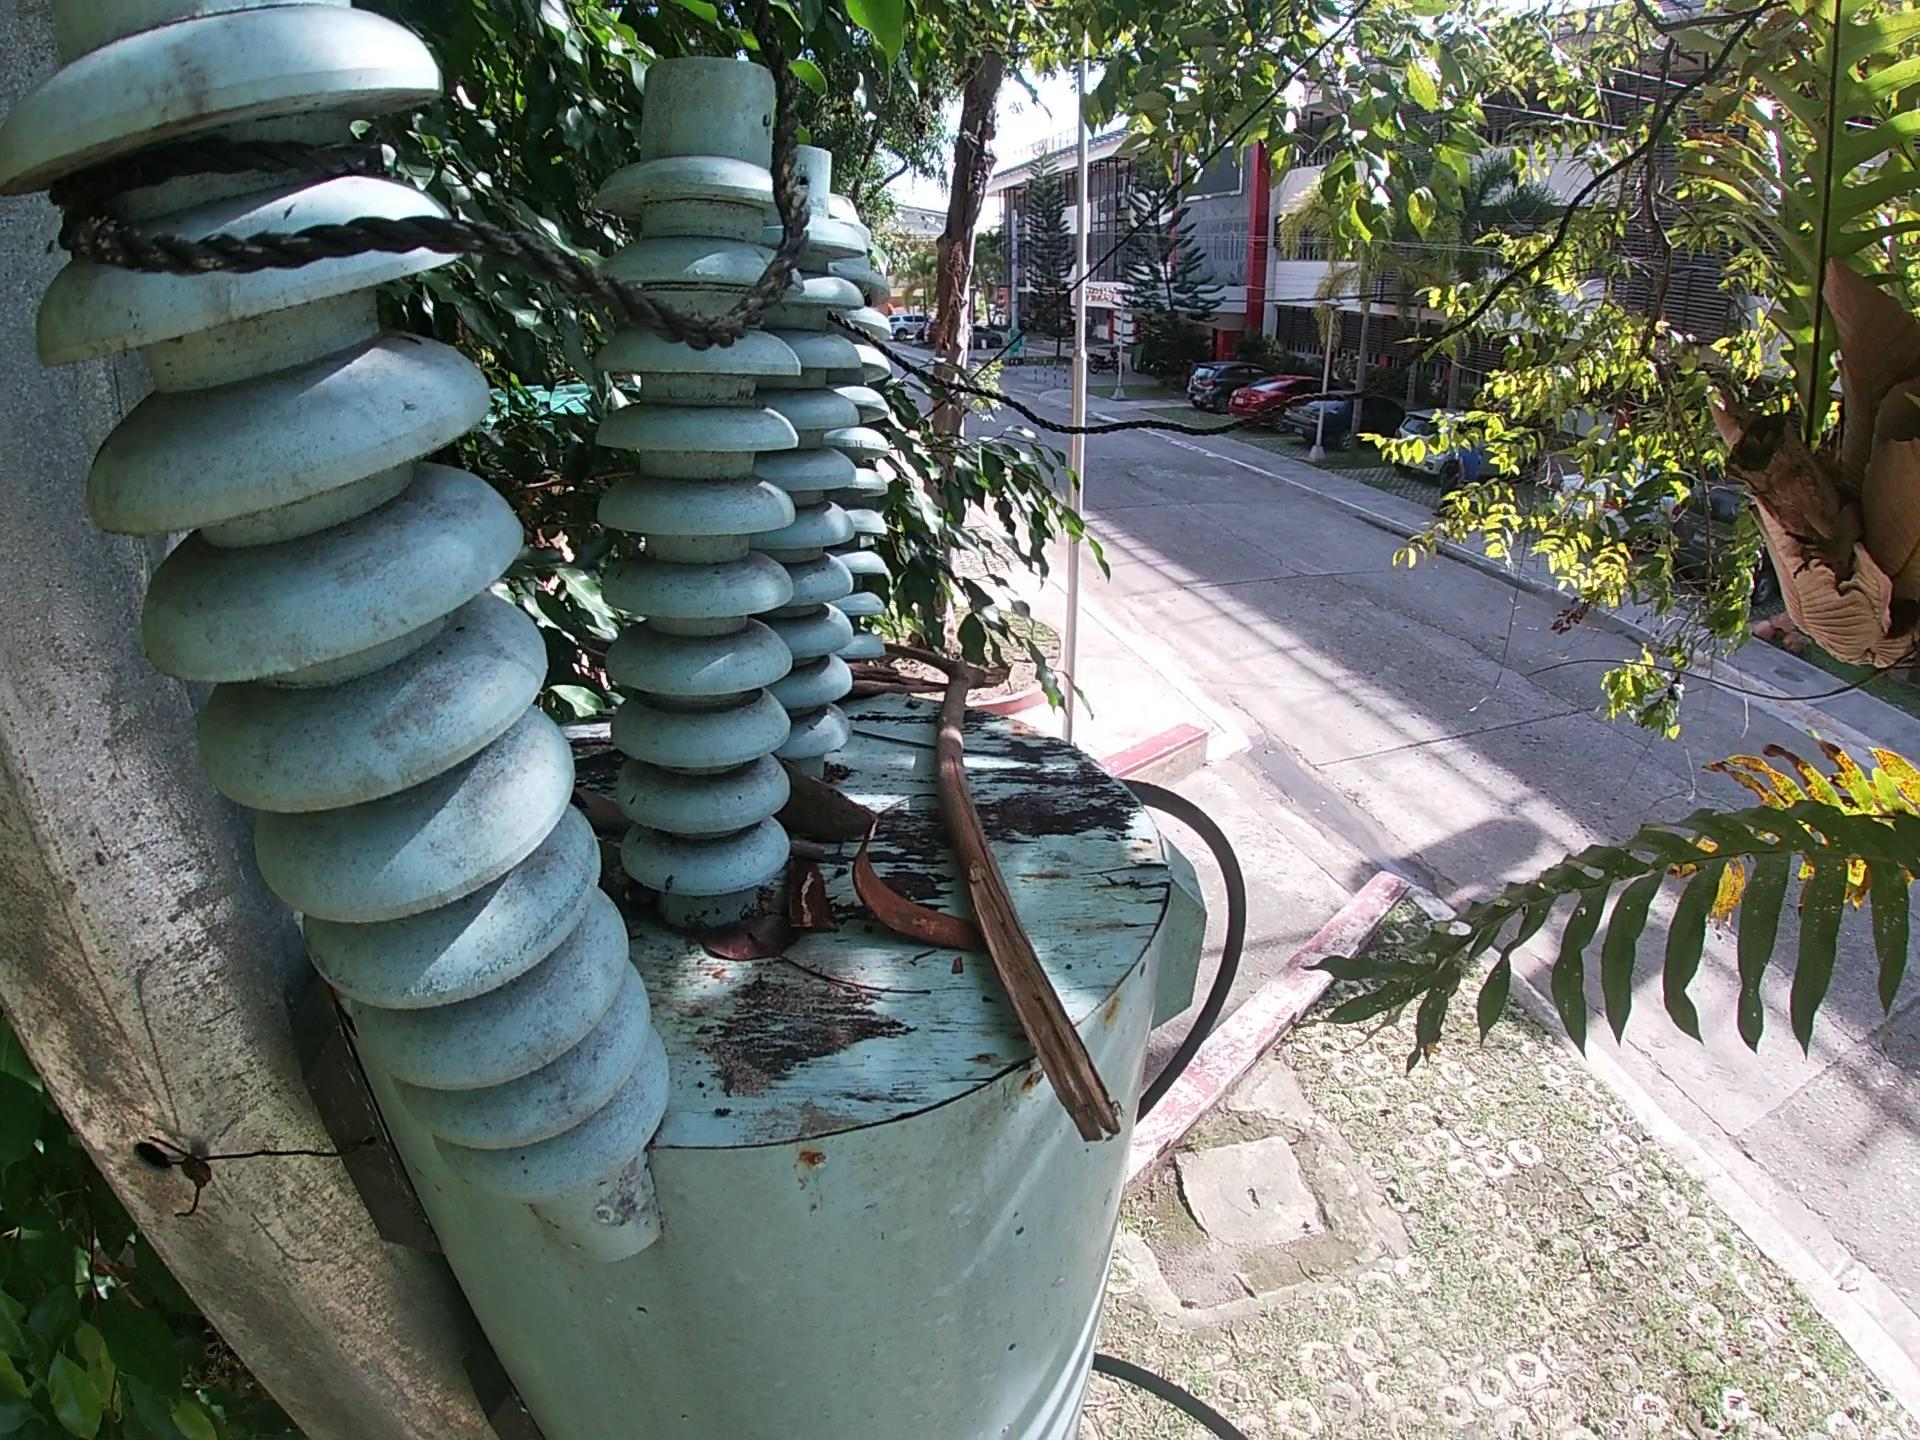leaf: (683, 892, 803, 970)
mahogany fruit: (847, 817, 990, 956), (766, 758, 881, 850), (791, 858, 830, 936)
tree branch: (881, 635, 1123, 1153), (838, 659, 951, 700), (785, 835, 830, 864)
